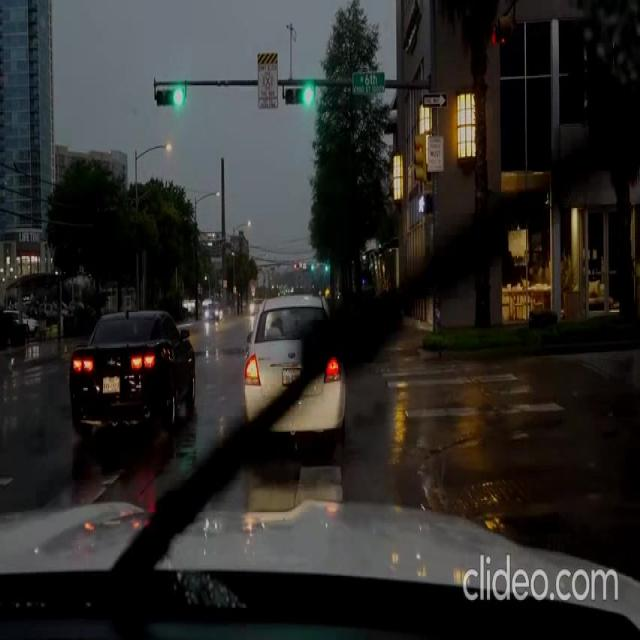Car: (69, 306, 195, 436), (244, 293, 347, 437), (205, 298, 221, 318)
